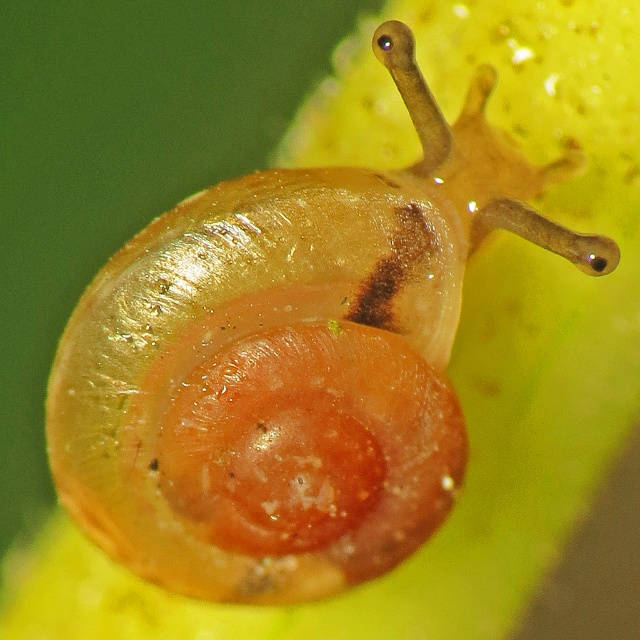Snail: (41, 16, 623, 606)
